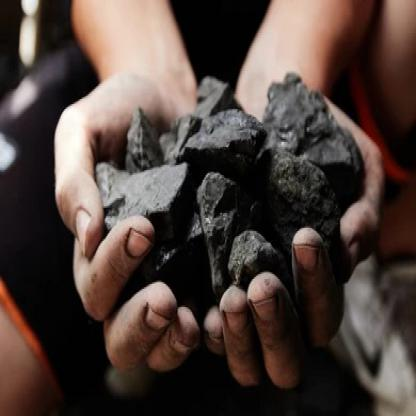Sedimentary_coal: (256, 69, 357, 233), (168, 70, 262, 174), (99, 157, 202, 242), (229, 226, 271, 289)
